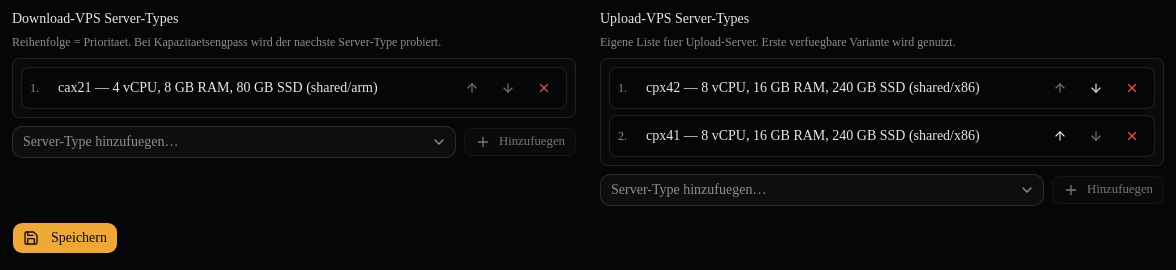
VpsServerTypesConfig › zeigt Default-Hinweis wenn Liste leer wird
Click the button named "cax21 entfernen". click: (544, 88)
box: x1=530 y1=74 x2=558 y2=102
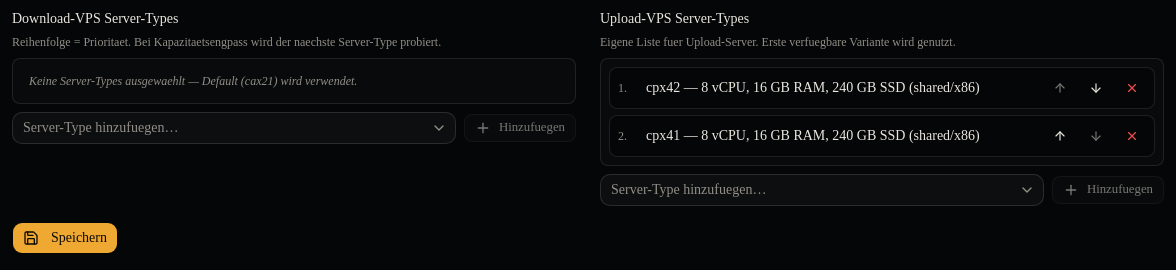
Now the list item "Default (cax21) wird verwendet" is shown, box x1=29 y1=74 x2=357 y2=88
